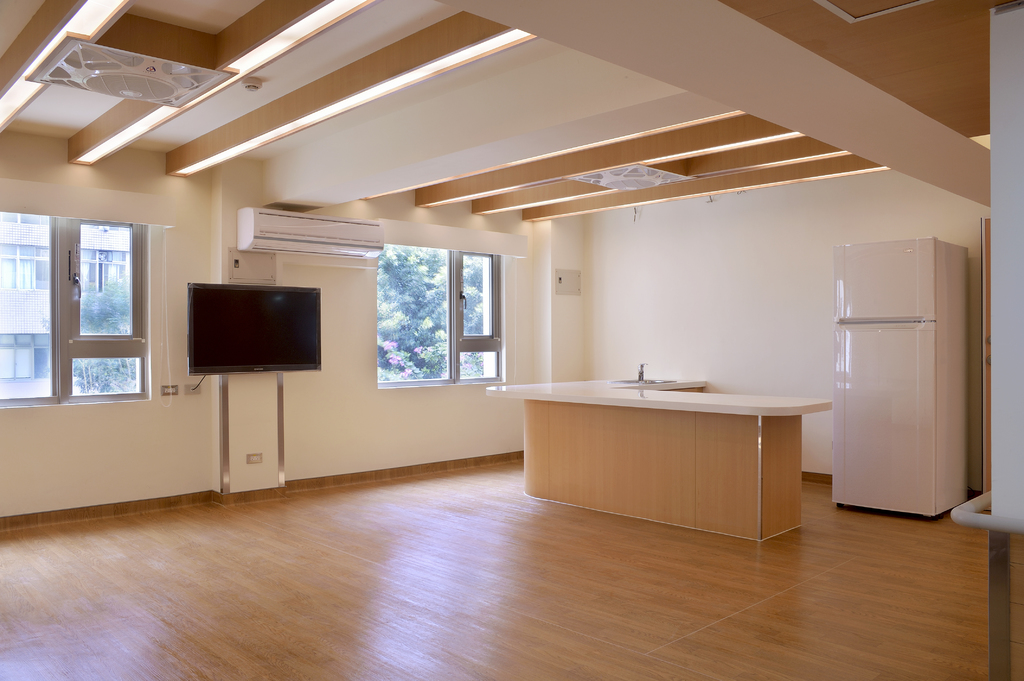handle: (838, 311, 926, 330)
refrigerator door: (834, 321, 939, 515), (829, 245, 935, 313)
